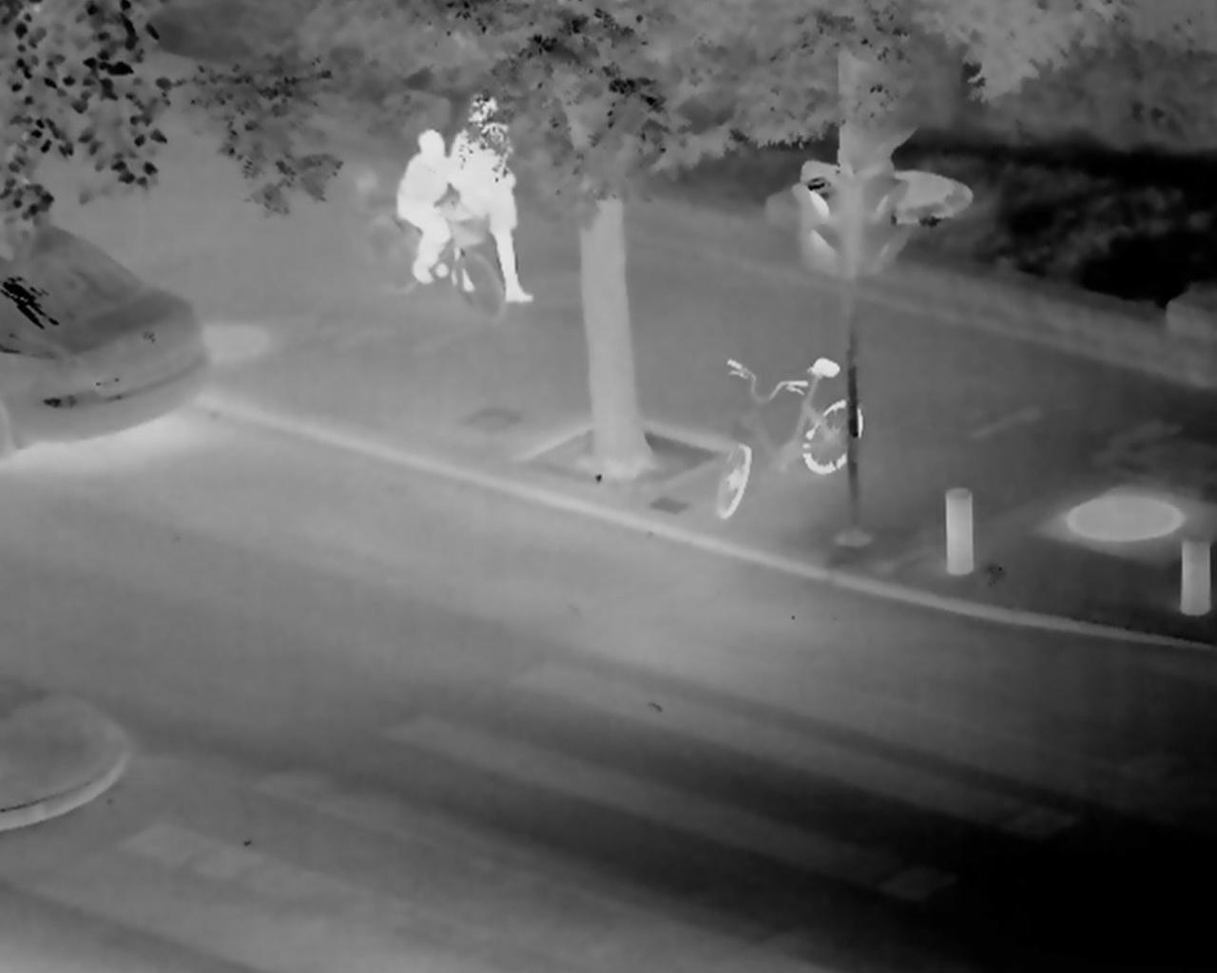person: (450, 93, 532, 305), (396, 128, 451, 286)
